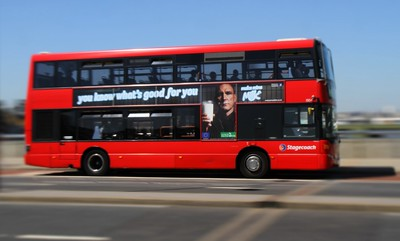bus: (23, 37, 341, 179)
